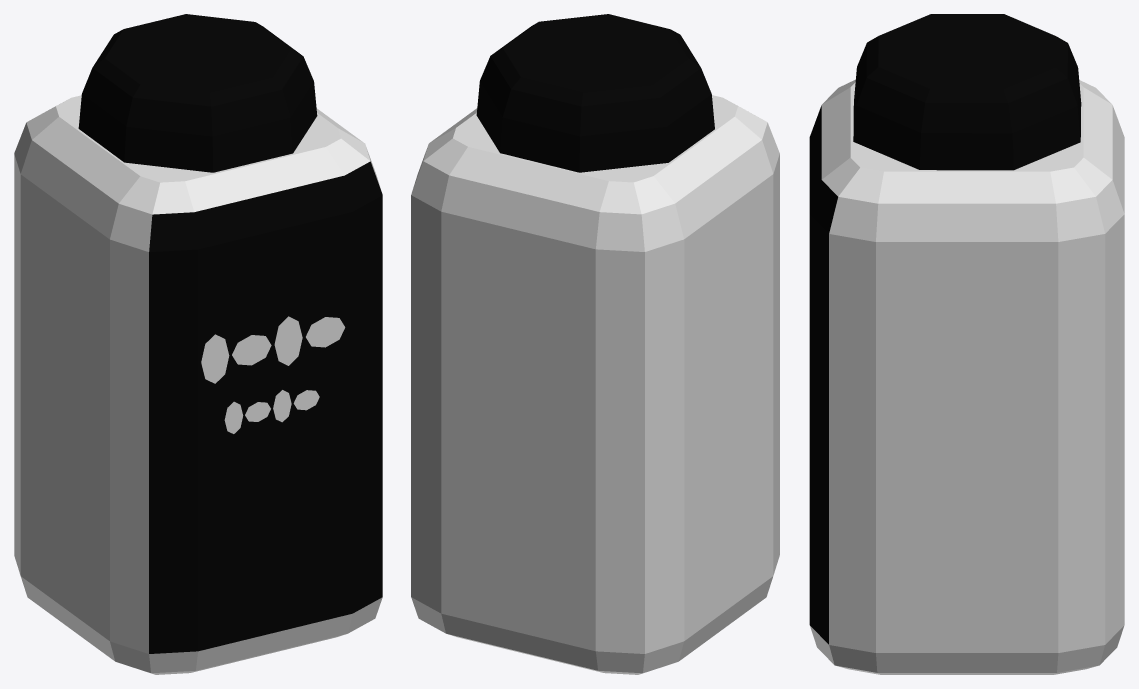
The model's file is Ma_Coffe_1.fbx.
3 renders of one model, left to right at view 1: azimuth 30°, elevation 25°; view 2: azimuth 150°, elevation 25°; view 3: azimuth 270°, elevation 25°, orthographic. The views are drawn at different scales.
Visible parts, largest first — view 1: Ma_Coffe_1; view 2: Ma_Coffe_1; view 3: Ma_Coffe_1.
Boxes of the visible parts, x1,y1,x2,y2 form: Ma_Coffe_1: [14, 14, 382, 674]; Ma_Coffe_1: [411, 14, 779, 674]; Ma_Coffe_1: [809, 14, 1124, 674].
Size of the model in its own units: 93.04 by 93.43 by 185.
